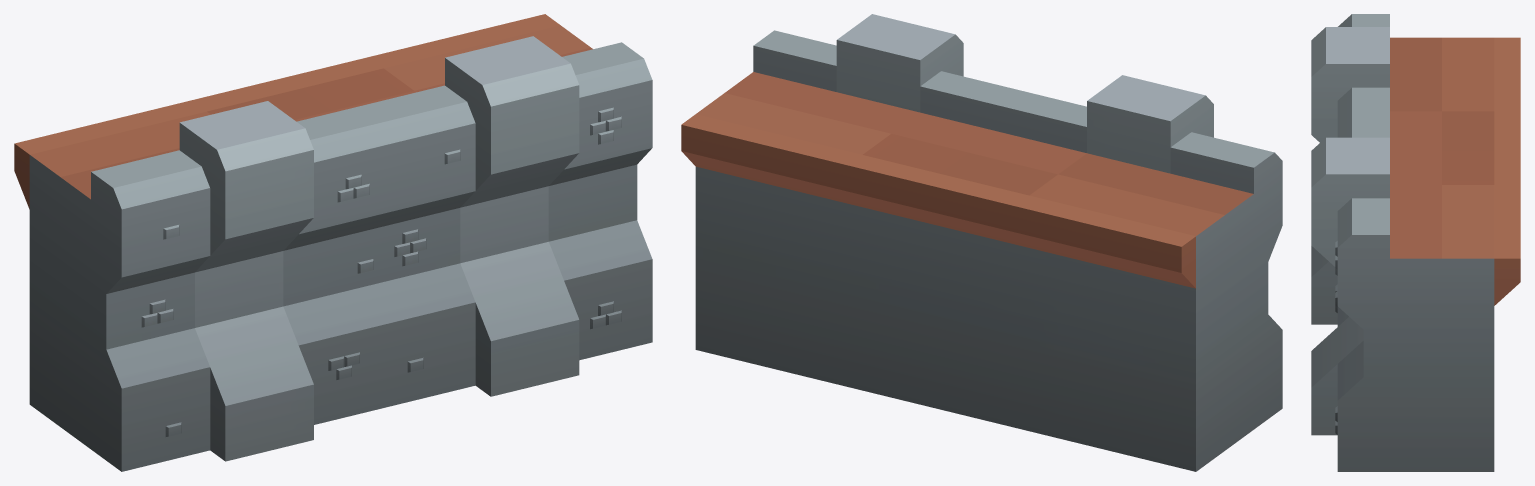
The model's file is kaykit-medieval-hexagon-pack-wall-straight.glb.
3 renders of one model, left to right at view 1: azimuth 30°, elevation 25°; view 2: azimuth 150°, elevation 25°; view 3: azimuth 270°, elevation 25°, orthographic. The views are drawn at different scales.
Visible parts, largest first — view 1: wall_straight; view 2: wall_straight; view 3: wall_straight.
Part boxes in pixels (x1,y1,x2,y2): wall_straight: (14, 14, 652, 471); wall_straight: (681, 14, 1282, 471); wall_straight: (1311, 14, 1520, 471).
Bounding box in the file's own units: 2 × 1.1 × 0.7999.
1 material, 1 textured.
